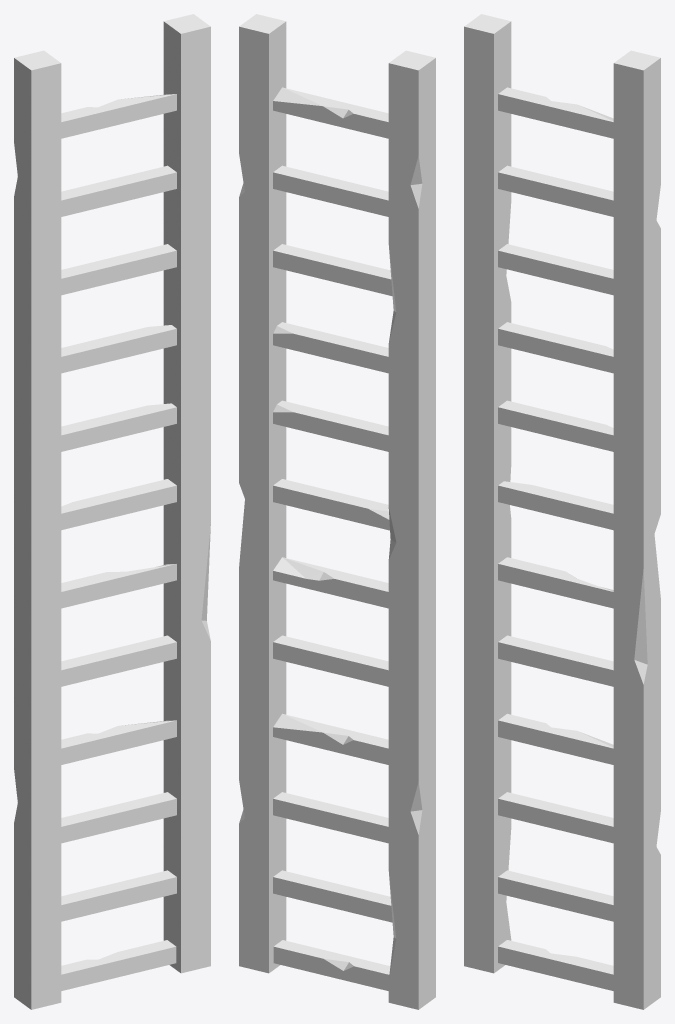
Rendered from Ladder_01.fbx.
3 renders of one model, left to right at view 1: azimuth 30°, elevation 25°; view 2: azimuth 150°, elevation 25°; view 3: azimuth 330°, elevation 25°, orthographic.
Parts seen in each view (by area): view 1: SM_Gen_Bld_Ladder_01; view 2: SM_Gen_Bld_Ladder_01; view 3: SM_Gen_Bld_Ladder_01.
Part boxes in pixels (x1=…): SM_Gen_Bld_Ladder_01: x1=14, y1=14, x2=210, y2=1009; SM_Gen_Bld_Ladder_01: x1=239, y1=14, x2=435, y2=1009; SM_Gen_Bld_Ladder_01: x1=464, y1=14, x2=660, y2=1009.
Bounding box in the file's own units: 60 × 300 × 10.
